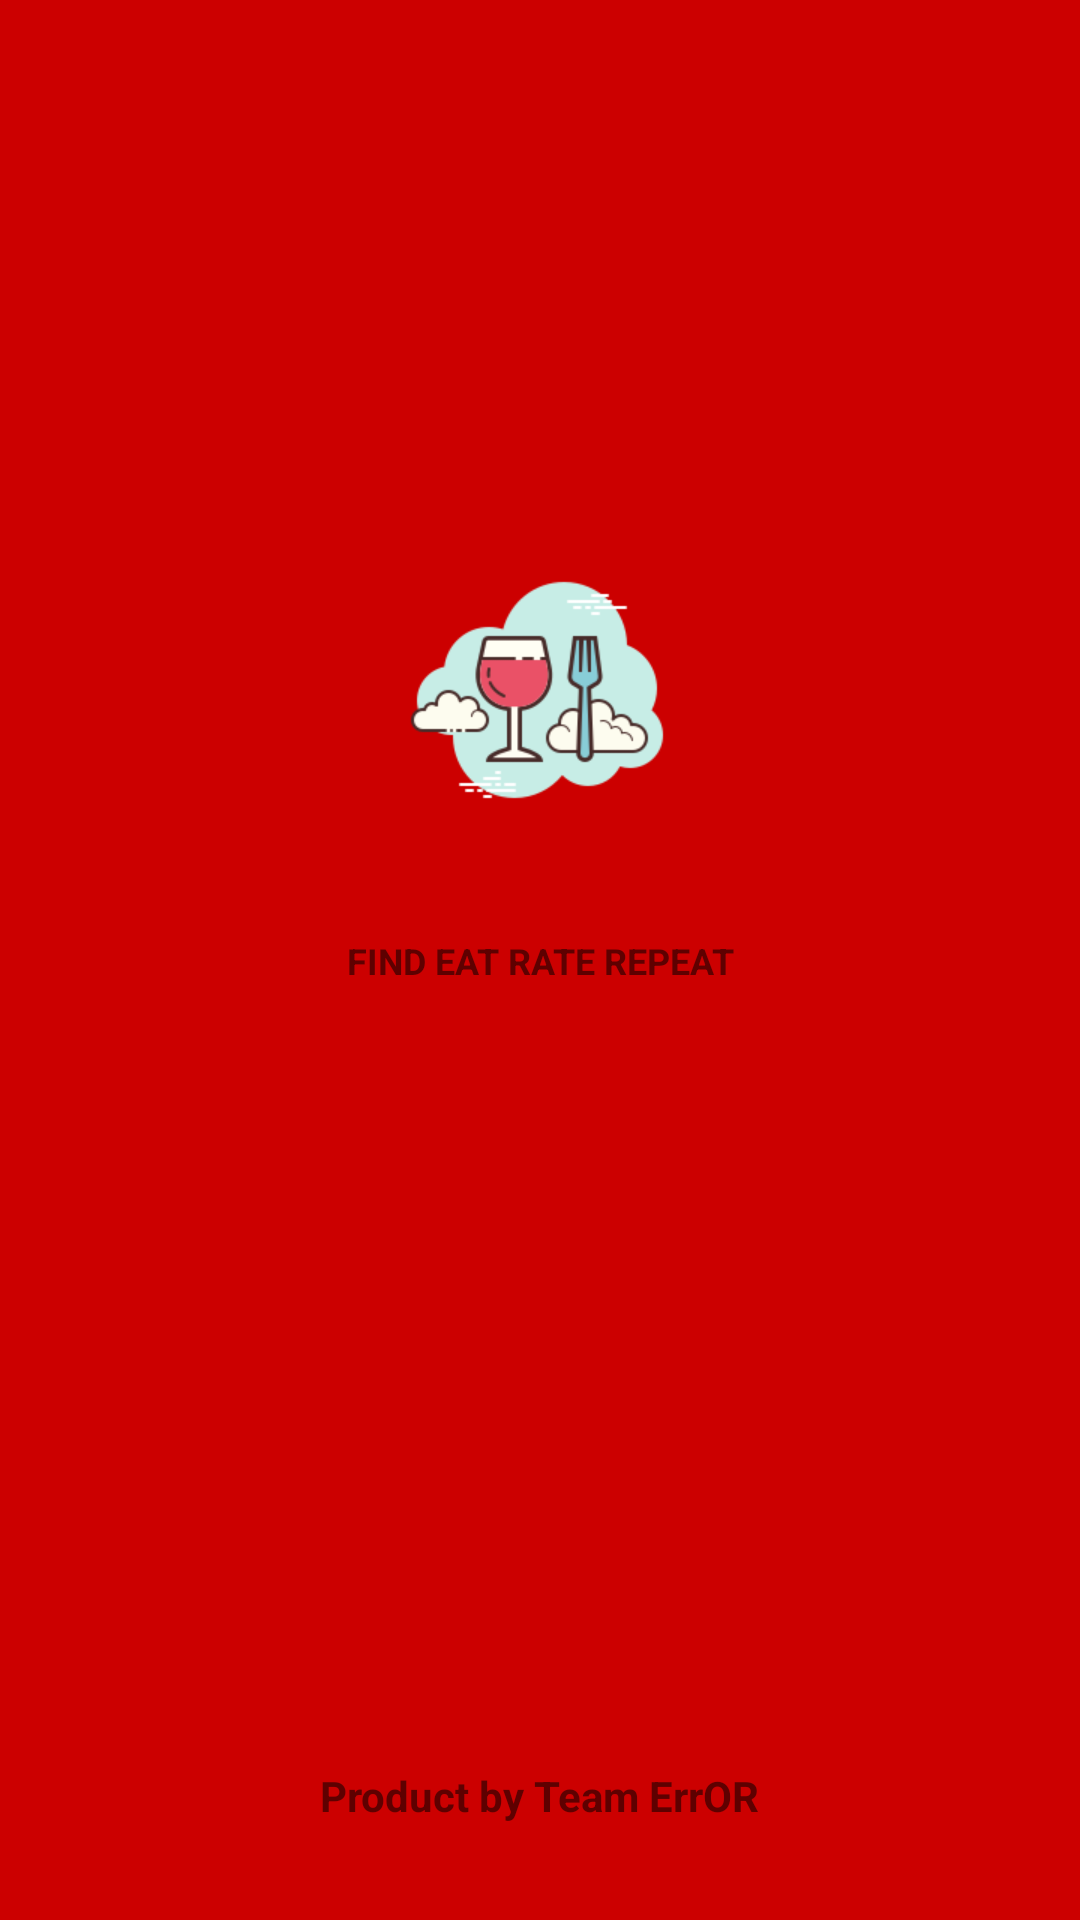

Icons on this 1080 x 1920 Android screen, each with the point to tap as [x,y]:
food: [537,690]
